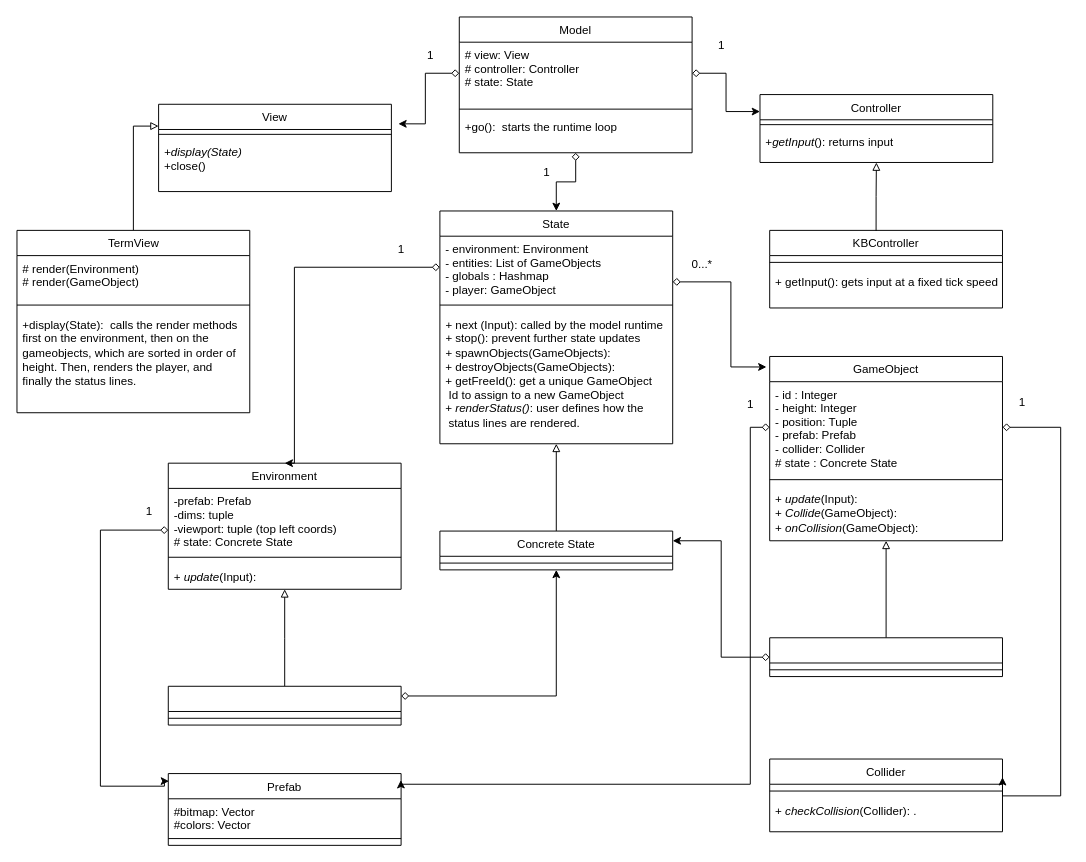
Image size: 1086x862. Some labels were removed from this diagram. Here are the shapes that lost their labels. From the top down, the centre of each, then its label:
At [885,657]: "Concrete GameObject".
At [284,705]: "Concrete Environment".
